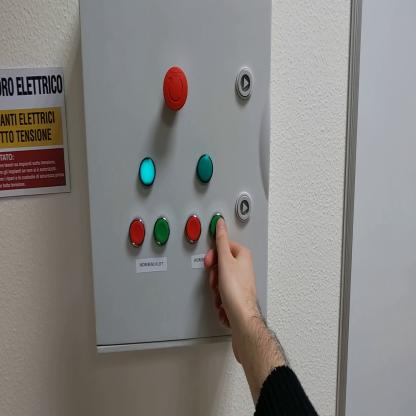hand: (205, 216, 262, 351)
left green button: (155, 218, 170, 246)
left red button: (130, 218, 146, 249)
right green button: (209, 212, 226, 241)
right red button: (185, 214, 202, 244)
